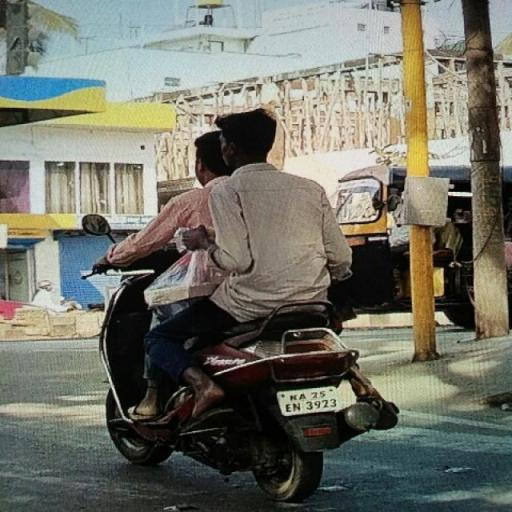bike: (79, 107, 402, 503)
numberplate: (278, 386, 346, 416)
withouthelmet: (218, 112, 272, 164), (196, 135, 226, 184)
